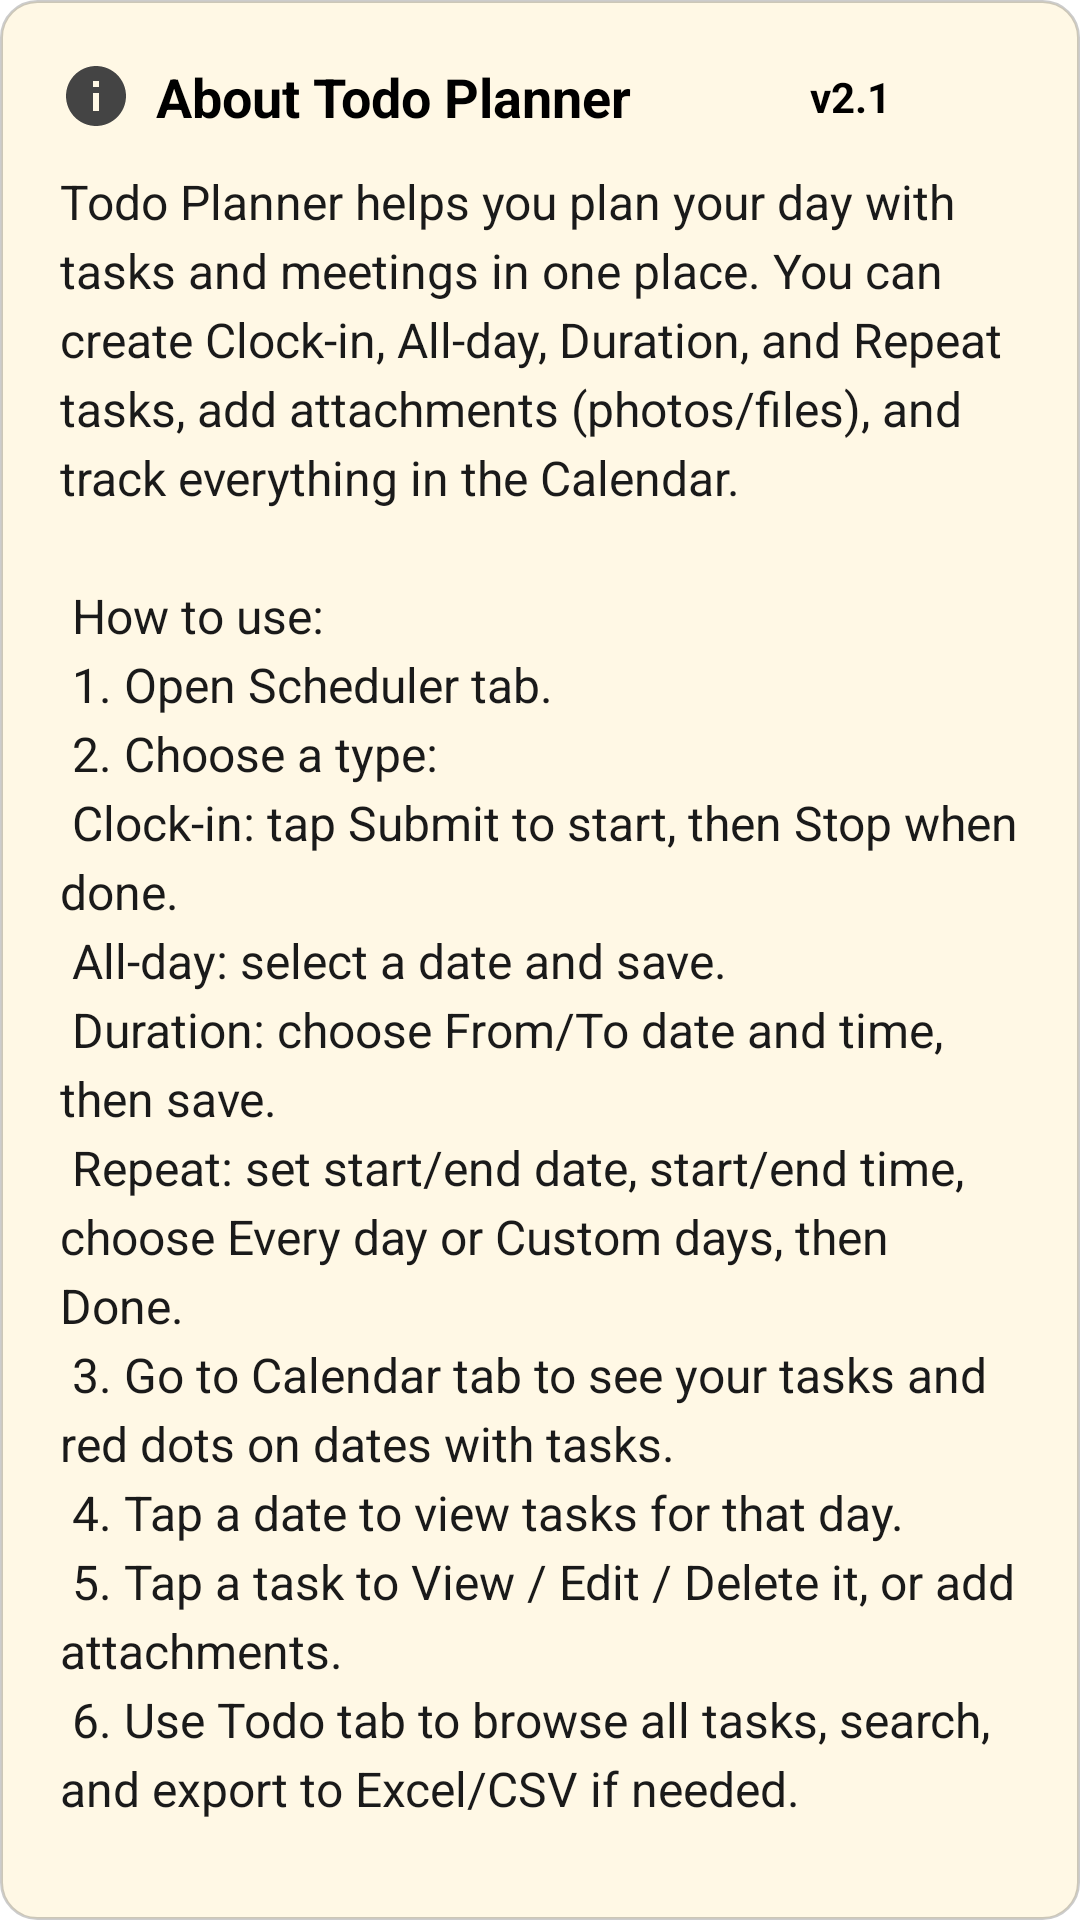

Locate icon controls on the screen. Image size 1080px×1920px, boxes as (x1, y1, x2, y2).
Info: (66, 66, 126, 126)
